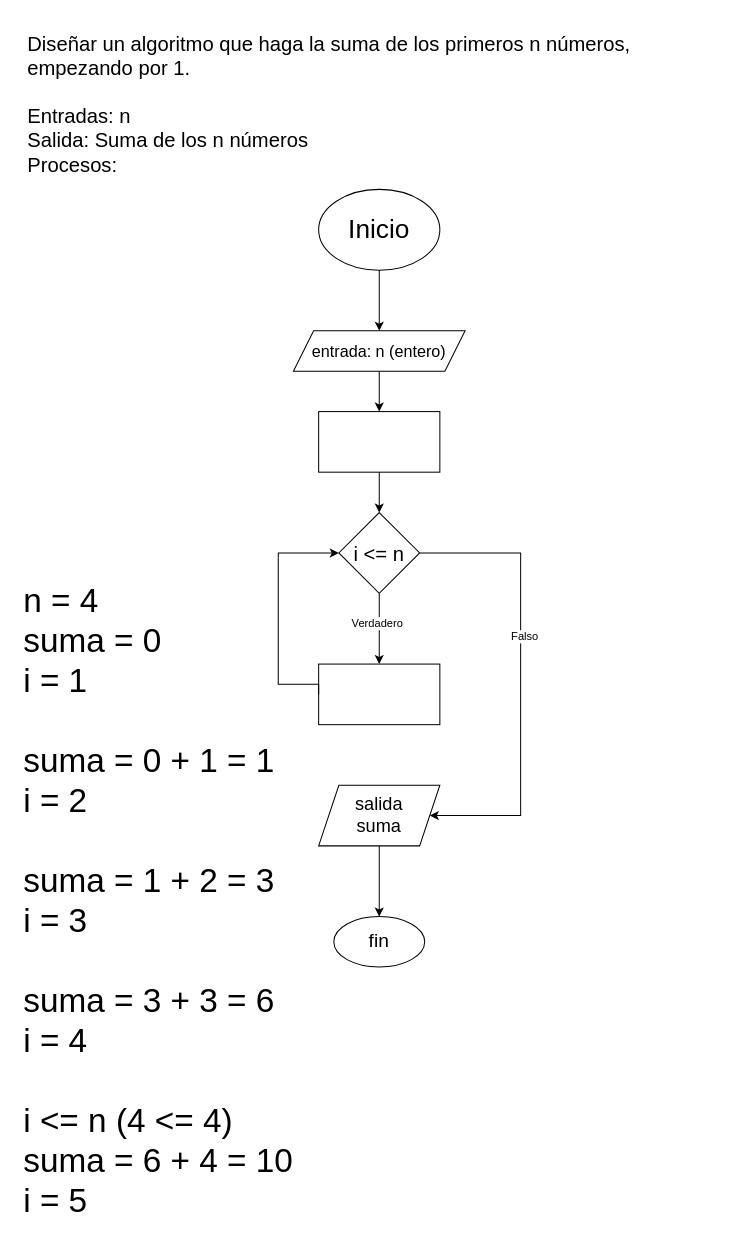
The diagram is 749 pixels wide and 1236 high, and some of its shapes have lost their labels. The box of each missing label's shape, as (x1, y1, x2, y2) in pixels:
i = 1 suma = 0: (318, 411, 440, 472)
suma = suma + i i++: (318, 663, 440, 725)
